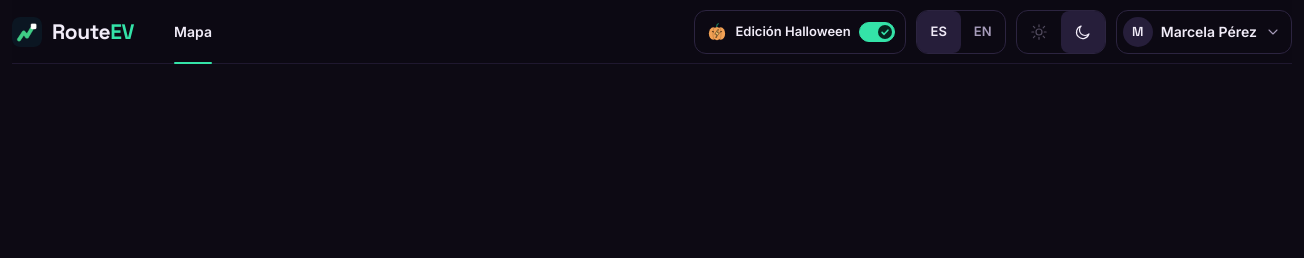
Test: LandingHeader en las pantallas con cuenta › Escape cierra la cuenta y devuelve el foco al botón
The width and height of the screenshot is (1304, 258).
Click the button "M Marcela Pérez" at (1204, 32), box [1116, 10, 1292, 54]
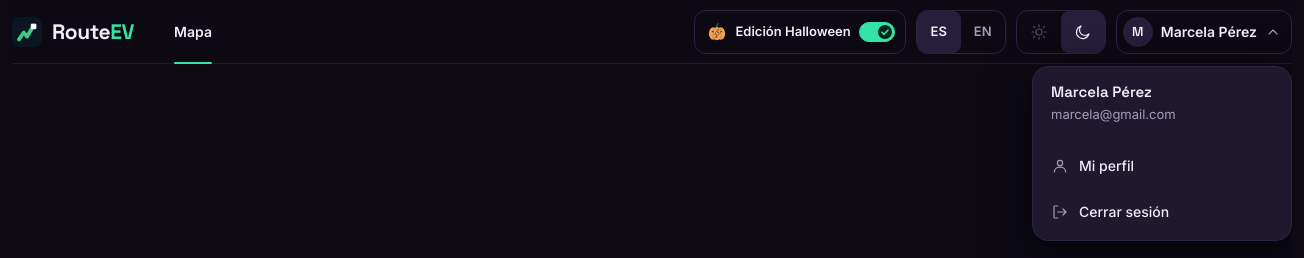
Press Escape
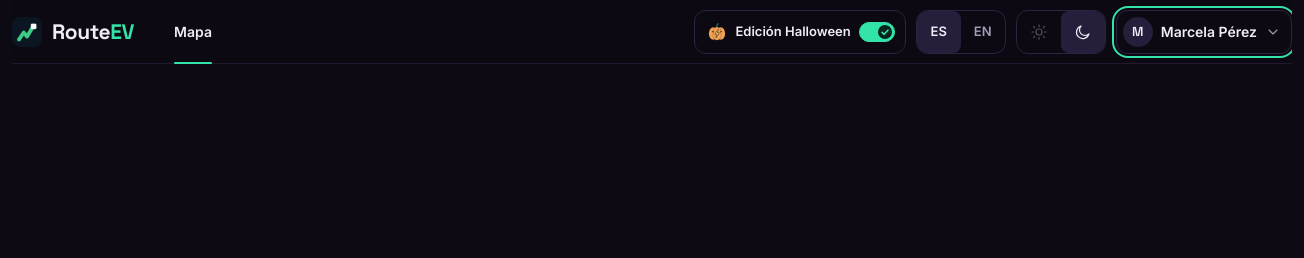
Check: the button "M Marcela Pérez" is collapsed, box [1116, 10, 1292, 54]
